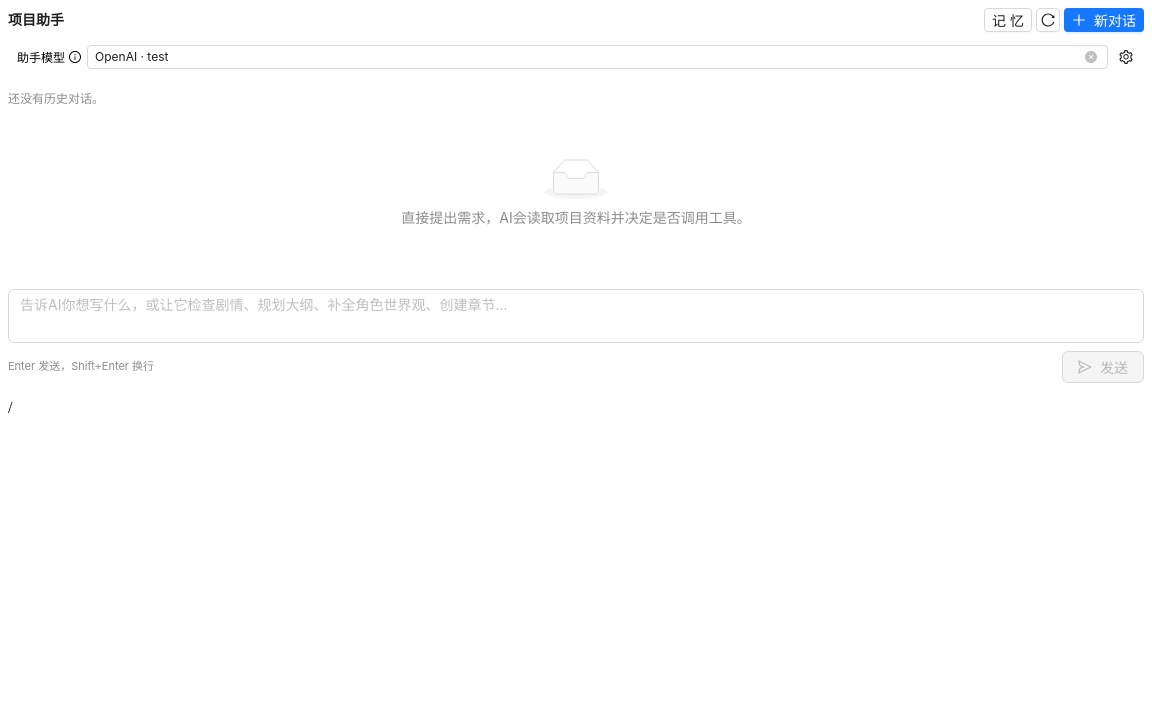
Test case: WorkspaceAssistantChat cancellation and recovery › recovers the authoritative completed result after a detached stream ends
This screenshot has width=1152, height=720.
Step 1. Type "写第一章" into the text box with placeholder "告诉AI你想写什么，或让它检查剧情、规划大纲、补全角色世界观、创建章节..." → (576,316), box [8,289,1144,343]
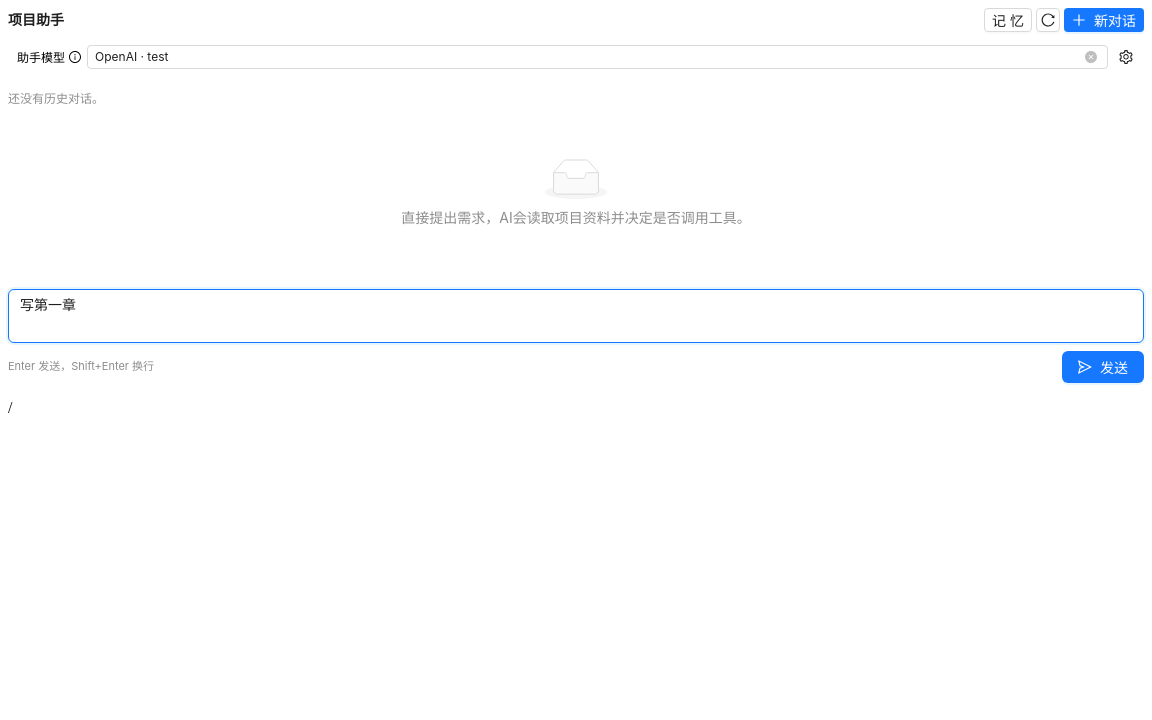
Step 2. Click the button "发送" → (1103,367), box [1062,351,1144,383]
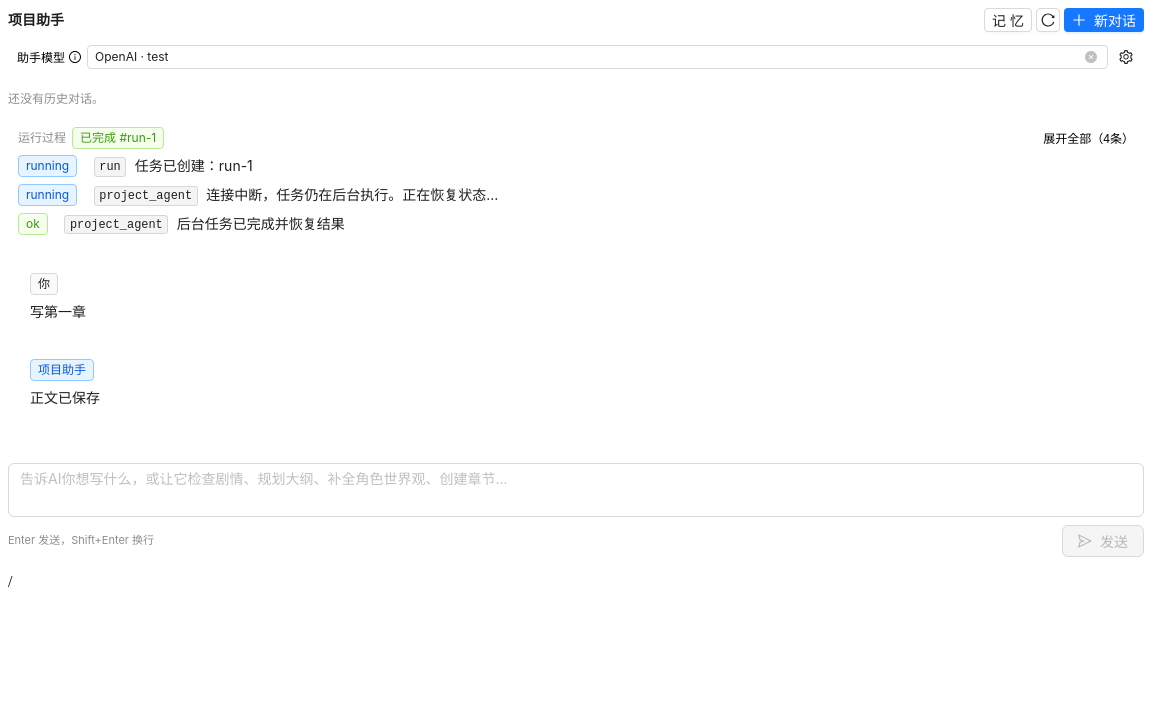
Result: the text "任务已创建：run-1" is shown at [135,155,253,177]
Result: the text "正文已保存" is shown at [30,389,100,406]
Result: the text "已完成 #run-1" is shown at [72,127,164,149]
